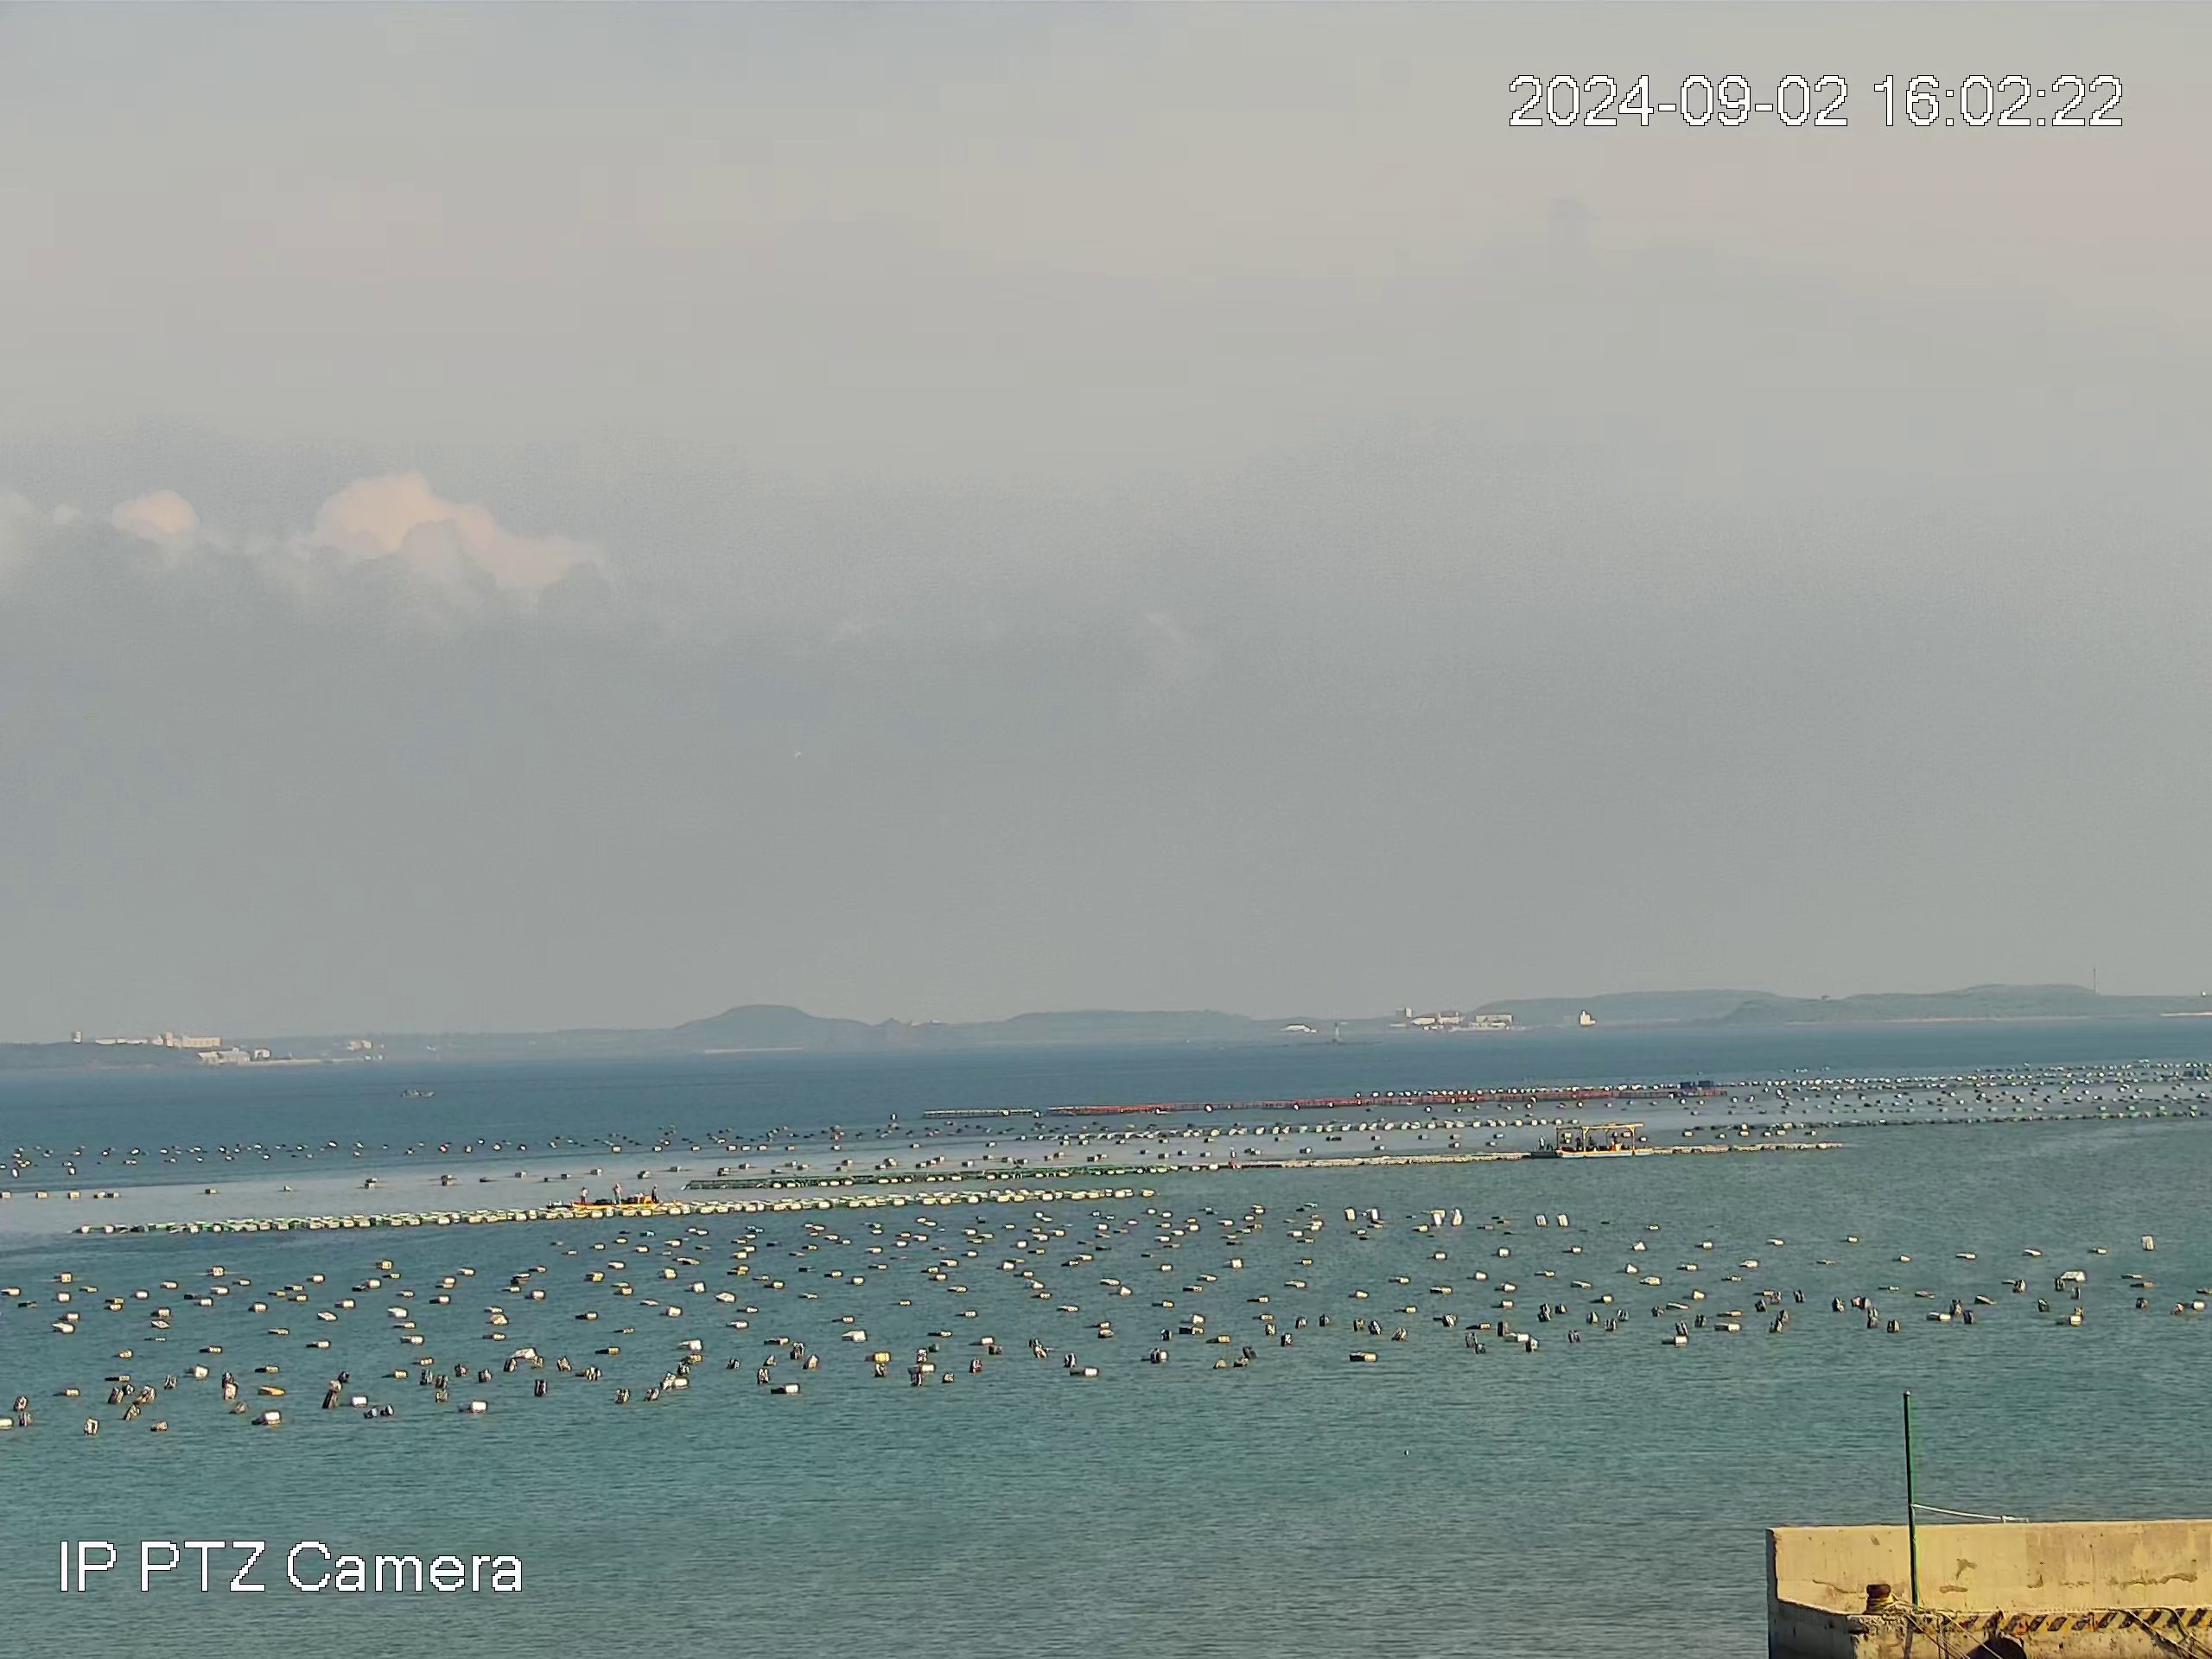boat: (1554, 1122, 1655, 1160), (570, 1182, 663, 1210), (399, 1088, 434, 1100)
